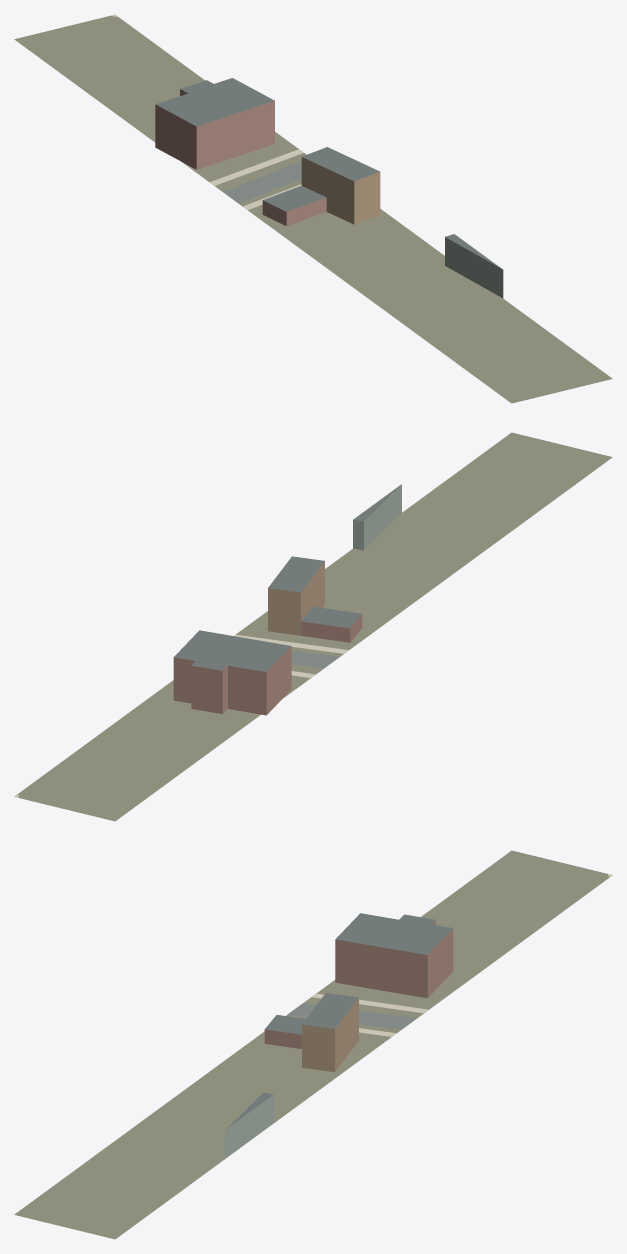
File: sector-3_-3.glb
3 renders of one model, top to bottom at view 1: azimuth 30°, elevation 25°; view 2: azimuth 150°, elevation 25°; view 3: azimuth 330°, elevation 25°, orthographic.
Visible parts, largest first — view 1: 3:-3-ground, 3:-3-facade, 3:-3-roof, 3:-3-road, 3:-3-paving; view 2: 3:-3-ground, 3:-3-facade, 3:-3-roof, 3:-3-paving, 3:-3-road; view 3: 3:-3-ground, 3:-3-facade, 3:-3-roof, 3:-3-road, 3:-3-paving.
Boxes of the visible parts, x1,y1,x2,y2 form: 3:-3-ground: (14,15,612,403); 3:-3-facade: (155,89,503,298); 3:-3-roof: (156,78,501,268); 3:-3-road: (223,161,301,203); 3:-3-paving: (111,14,303,209); 3:-3-ground: (14,432,612,821); 3:-3-facade: (173,484,401,715); 3:-3-roof: (174,485,400,672); 3:-3-paving: (14,634,348,797); 3:-3-road: (291,650,339,668); 3:-3-ground: (14,850,612,1239); 3:-3-facade: (225,920,453,1158); 3:-3-roof: (226,913,452,1129); 3:-3-road: (287,1003,416,1029); 3:-3-paving: (311,874,612,1036).
Bounding box in the file's own units: 24.64 × 9.6 × 200.
